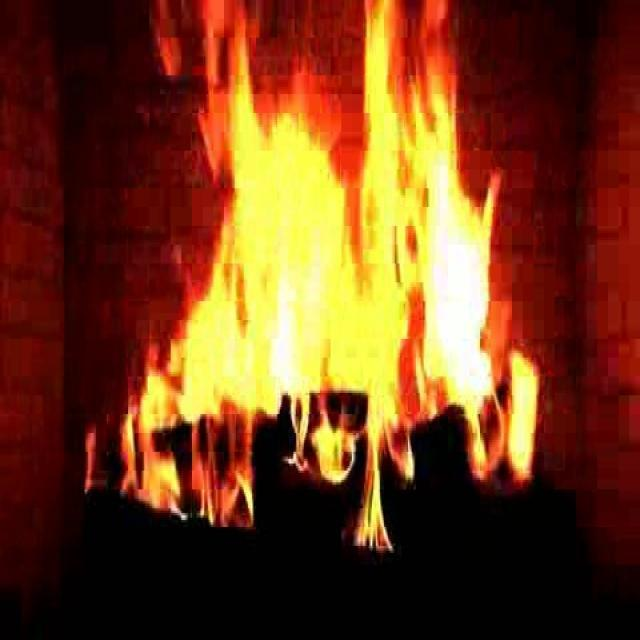Fire: (98, 44, 518, 546)
